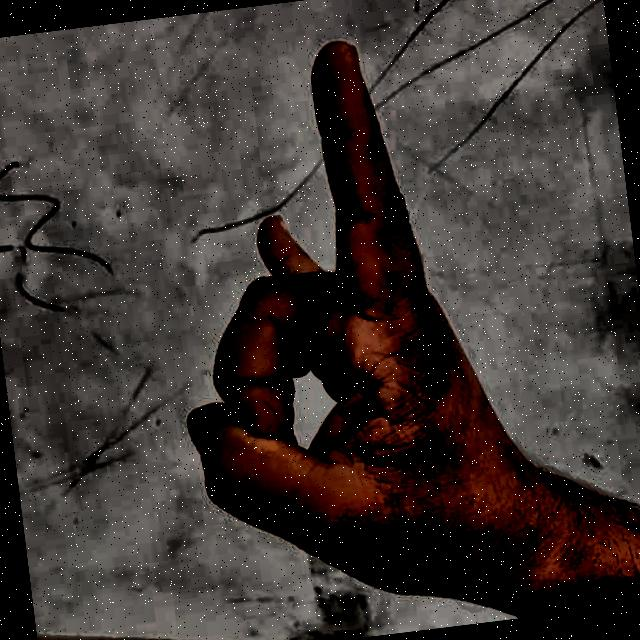Cha: (114, 12, 559, 640)
